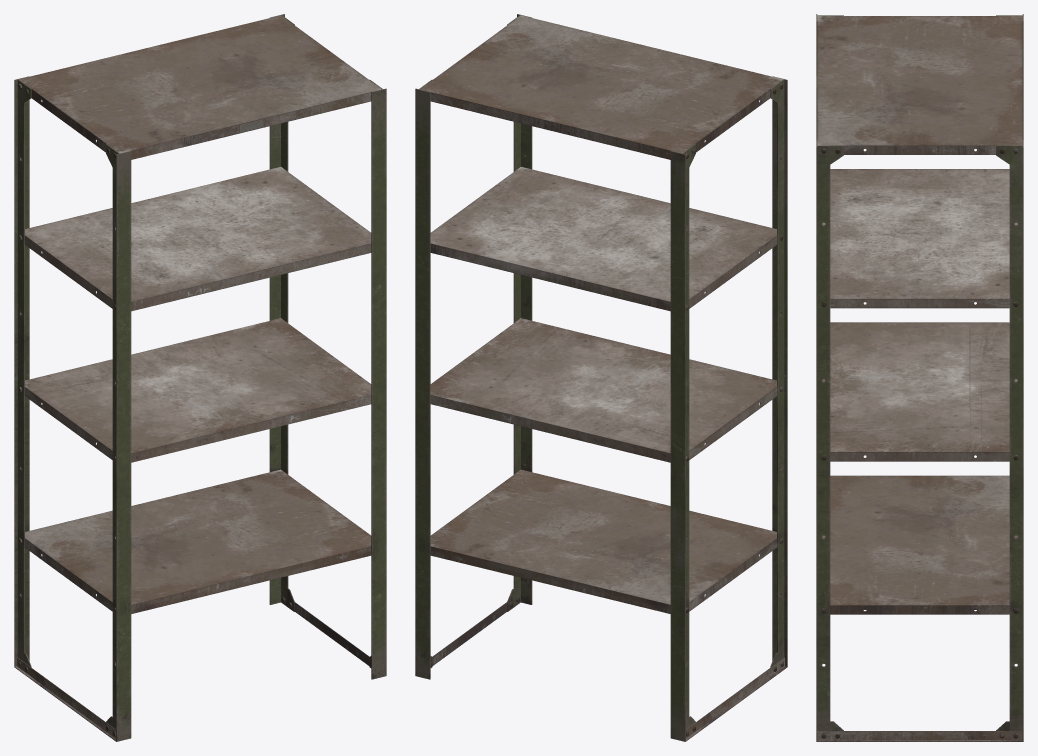
File: worn_metal_rack.glb
3 renders of one model, left to right at view 1: azimuth 30°, elevation 25°; view 2: azimuth 150°, elevation 25°; view 3: azimuth 270°, elevation 25°, orthographic.
Visible parts, largest first — view 1: worn_metal_rack; view 2: worn_metal_rack; view 3: worn_metal_rack.
Part boxes in pixels (<box>): worn_metal_rack: <box>14,14,386,741</box>; worn_metal_rack: <box>415,14,787,741</box>; worn_metal_rack: <box>816,14,1023,741</box>.
Bounding box in the file's own units: 0.9153 × 1.9 × 0.6001.
1 material, 1 textured.
